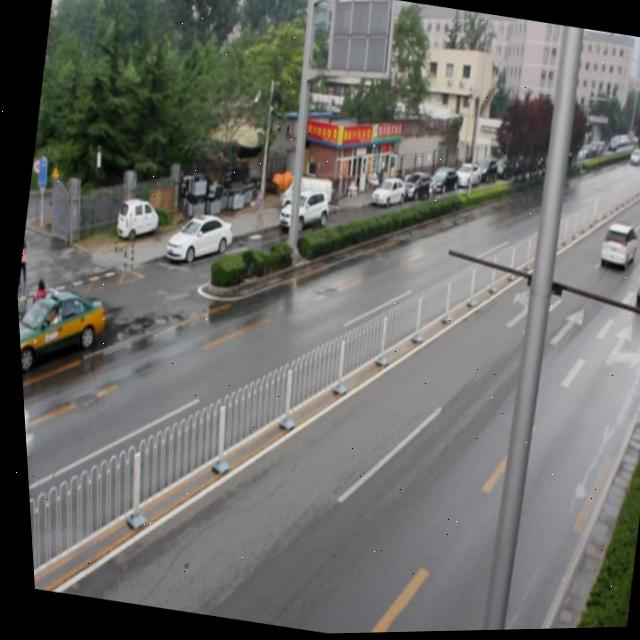car: (592, 219, 637, 276), (626, 255, 640, 309)
